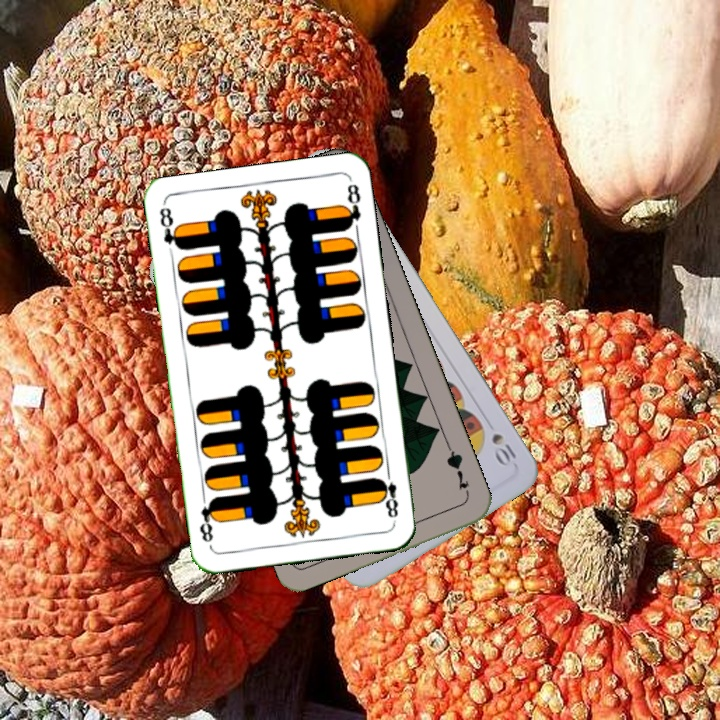E8: (156, 203, 184, 261), (375, 465, 401, 524)
G7: (442, 442, 472, 493)
S10: (487, 429, 519, 467)
